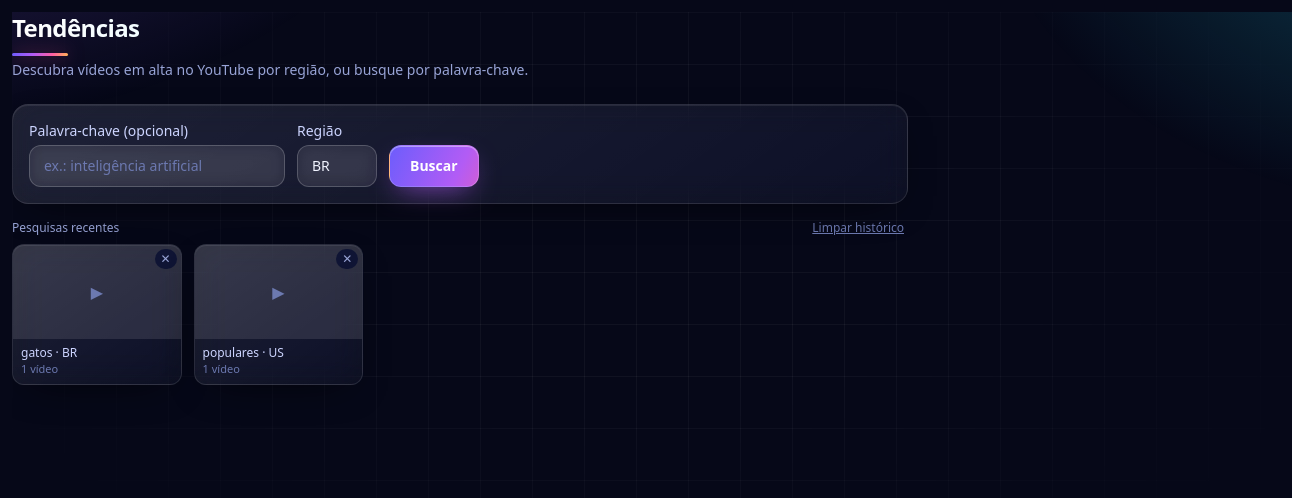
it: TrendsPage › exclusão de pesquisas › limpa todo o histórico depois de confirmar
Step 1. Click the button "Limpar histórico" → click(858, 228), box [808, 220, 908, 236]
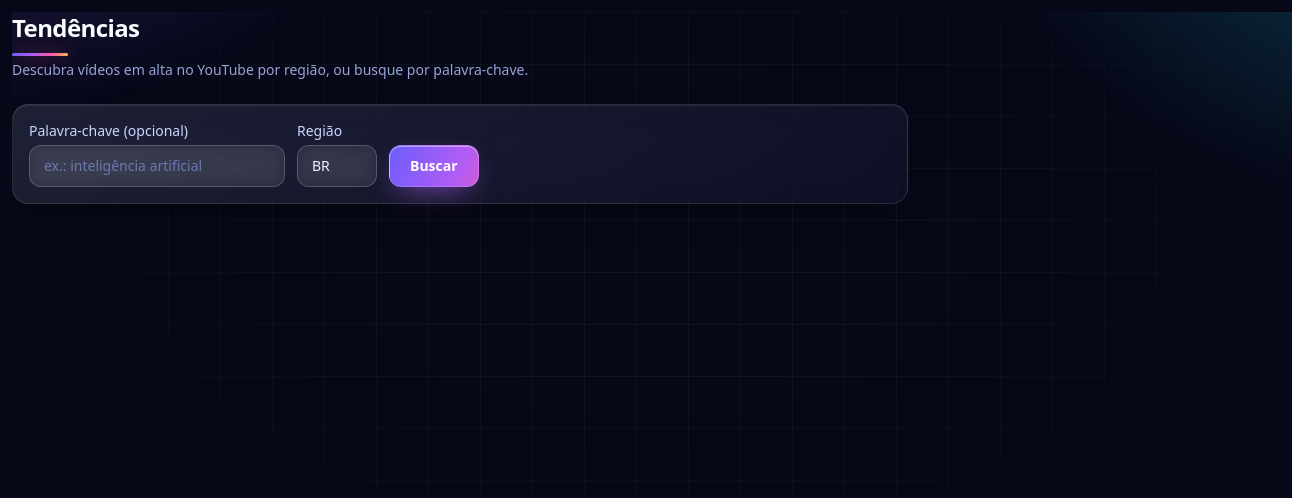
Expected: the button "Limpar histórico" is gone
Expected: the button "gatos" is gone
